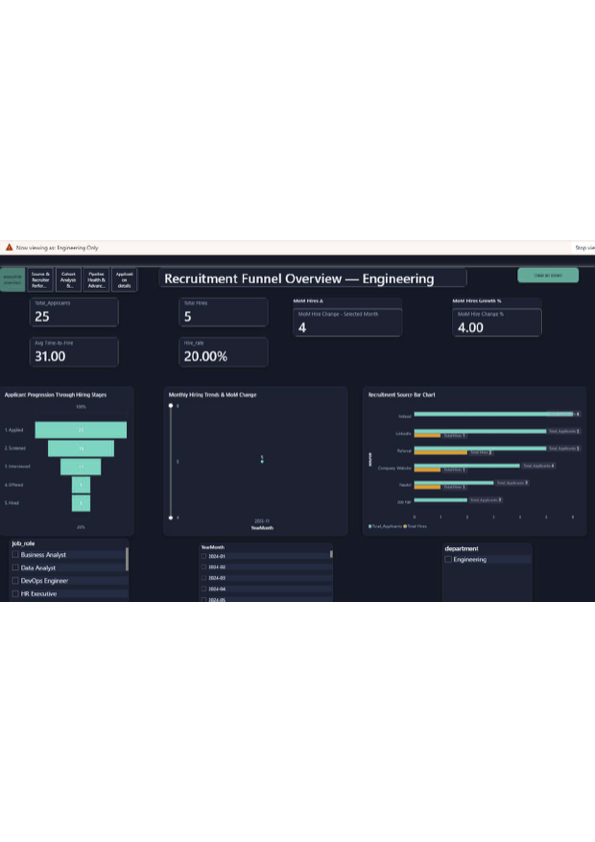

The dashboard page shown, as its layout file describes it:
{"tool":"powerbi","page":{"name":"executive overview","canvas":[1920,1080],"ordinal":0},"visuals":[{"type":"slicer","fields":{"Values":["applicants.department"]},"box":[1424,888,288,192],"z":0},{"type":"slicer","fields":{"Values":["applicants.job_role"]},"box":[32,872,384,208],"z":1000},{"type":"cardVisual","fields":{"Data":["Measure.Total_Applicants"]},"box":[96,96,288,96],"z":2000},{"type":"cardVisual","fields":{"Data":["Measure.Hire_rate"]},"box":[576,224,288,96],"z":3000},{"type":"cardVisual","fields":{"Data":["Measure.Total Hires"]},"box":[576,96,288,96],"z":4000},{"type":"cardVisual","fields":{"Data":["Measure.Avg Time-to-Hire"]},"box":[96,224,288,96],"z":5000},{"type":"cardVisual","fields":{"Data":["Measure.Dynamic Title"]},"box":[512,0,992,64],"z":6000},{"type":"funnel","title":"\tApplicant Progression Through Hiring Stages","fields":{"Category":["funnel_events.stage"],"Y":["Measure.Stage Count"]},"box":[0,384,432,480],"z":7000},{"type":"lineChart","title":"\tMonthly Hiring Trends & MoM Change","fields":{"Category":["Date.YearMonth"],"Y":["Measure.Total Hires"]},"box":[528,384,592,480],"z":8000},{"type":"clusteredBarChart","title":"Recruitment Source Bar Chart","fields":{"Category":["applicants.source"],"Y":["Measure.Total_Applicants","Measure.Total Hires"]},"box":[1168,384,720,480],"z":9000},{"type":"pageNavigator","box":[0,0,448,80],"z":10000},{"type":"actionButton","box":[1664,0,200,50],"z":11000},{"type":"cardVisual","title":"MoM Hires Δ","fields":{"Data":["Measure.MoM Hire Change - Selected Month"]},"box":[944,96,288,128],"z":12000},{"type":"slicer","fields":{"Values":["Date.YearMonth"]},"box":[640,888,432,192],"z":13000},{"type":"cardVisual","title":"MoM Hires Growth %","fields":{"Data":["Measure.MoM Hire Change %"]},"box":[1456,96,288,128],"z":14000}]}

Visuals, with their boxes on the page's 1920x1080 design canvas (x1, y1, x2, y2). These are canvas units, not pixel positions in the 595x842 screenshot, which may show the page scaled, cropped or inside an application window:
slicer - applicants.department: {"left": 1424, "top": 888, "right": 1712, "bottom": 1080}
slicer - applicants.job_role: {"left": 32, "top": 872, "right": 416, "bottom": 1080}
cardVisual - Measure.Total_Applicants: {"left": 96, "top": 96, "right": 384, "bottom": 192}
cardVisual - Measure.Hire_rate: {"left": 576, "top": 224, "right": 864, "bottom": 320}
cardVisual - Measure.Total Hires: {"left": 576, "top": 96, "right": 864, "bottom": 192}
cardVisual - Measure.Avg Time-to-Hire: {"left": 96, "top": 224, "right": 384, "bottom": 320}
cardVisual - Measure.Dynamic Title: {"left": 512, "top": 0, "right": 1504, "bottom": 64}
"	Applicant Progression Through Hiring Stages" funnel: {"left": 0, "top": 384, "right": 432, "bottom": 864}
"	Monthly Hiring Trends & MoM Change" lineChart: {"left": 528, "top": 384, "right": 1120, "bottom": 864}
"Recruitment Source Bar Chart" clusteredBarChart: {"left": 1168, "top": 384, "right": 1888, "bottom": 864}
pageNavigator: {"left": 0, "top": 0, "right": 448, "bottom": 80}
actionButton: {"left": 1664, "top": 0, "right": 1864, "bottom": 50}
"MoM Hires Δ" cardVisual: {"left": 944, "top": 96, "right": 1232, "bottom": 224}
slicer - Date.YearMonth: {"left": 640, "top": 888, "right": 1072, "bottom": 1080}
"MoM Hires Growth %" cardVisual: {"left": 1456, "top": 96, "right": 1744, "bottom": 224}
